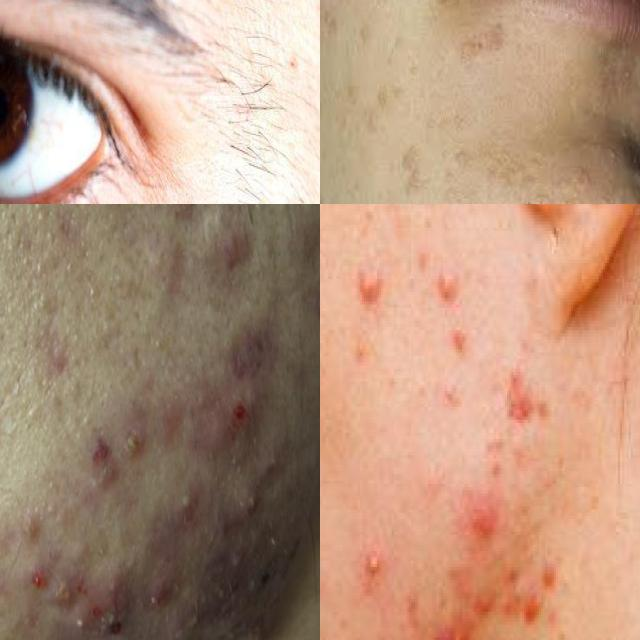acne_scars: (507, 343, 569, 452), (88, 425, 117, 486)
comedone: (613, 59, 636, 94)
cystic: (206, 380, 264, 463), (230, 492, 275, 542)
flat_wart: (320, 0, 435, 131), (397, 141, 432, 194)
papule: (462, 481, 504, 548)
pustule: (347, 231, 402, 365), (430, 250, 488, 324), (354, 532, 398, 615), (162, 485, 202, 526), (96, 569, 126, 607)
sebo-crystan-conglo: (411, 589, 490, 640), (45, 566, 83, 622), (215, 611, 268, 640)
